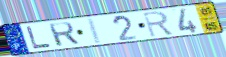2: (112, 14, 139, 42)
4: (177, 7, 199, 34)
I: (86, 17, 104, 45)
L: (25, 25, 54, 51)
R: (141, 10, 176, 38), (47, 21, 82, 48)
